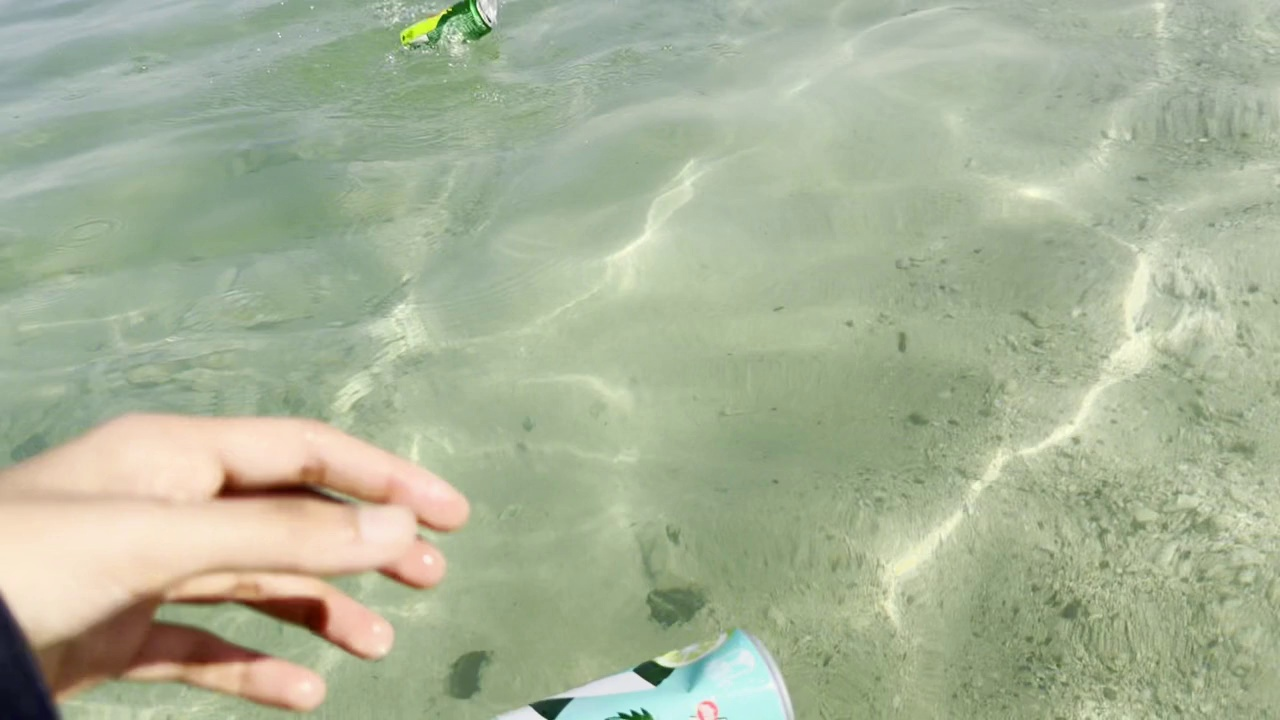debris: (459, 614, 797, 720), (400, 0, 504, 69)
